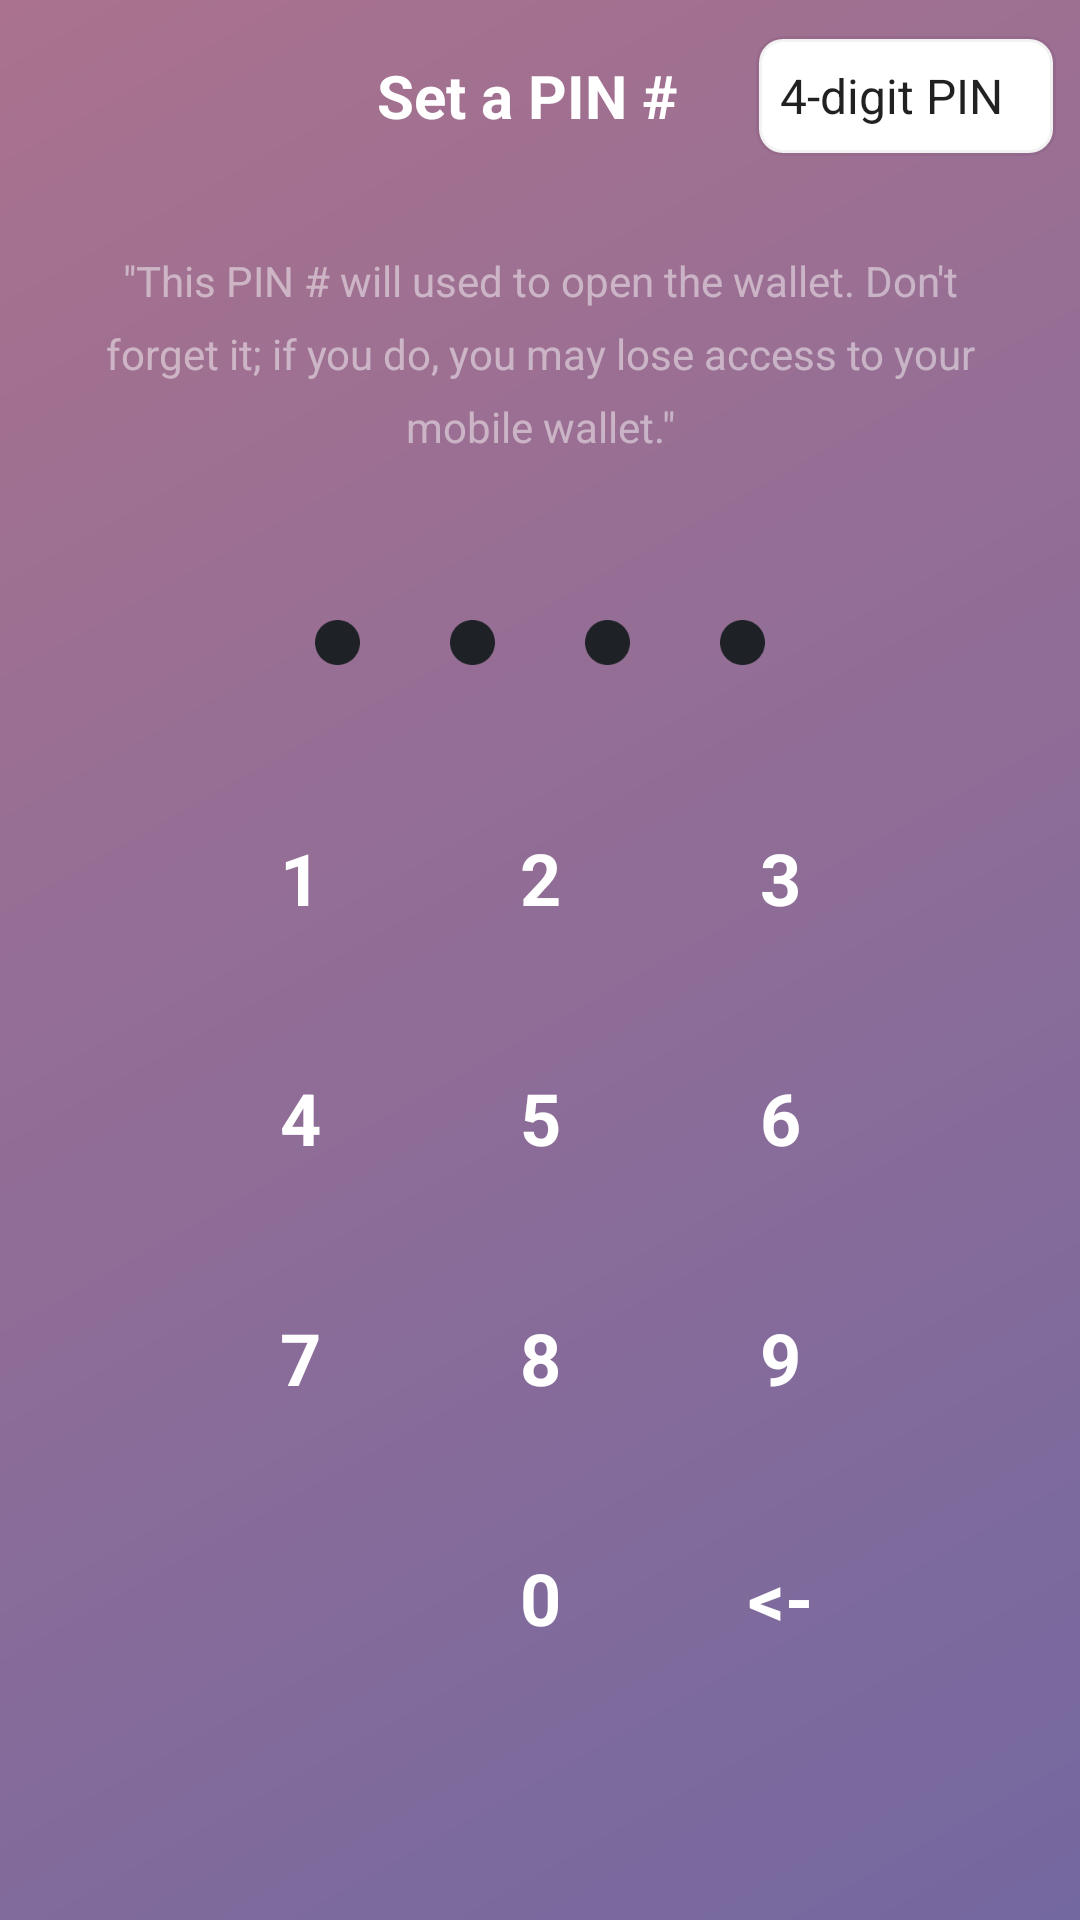

Named icons in this screenshot (1080px x 1920px) and their centers, [x,y]:
dot: [337,642], [472,642], [607,642], [742,642]
